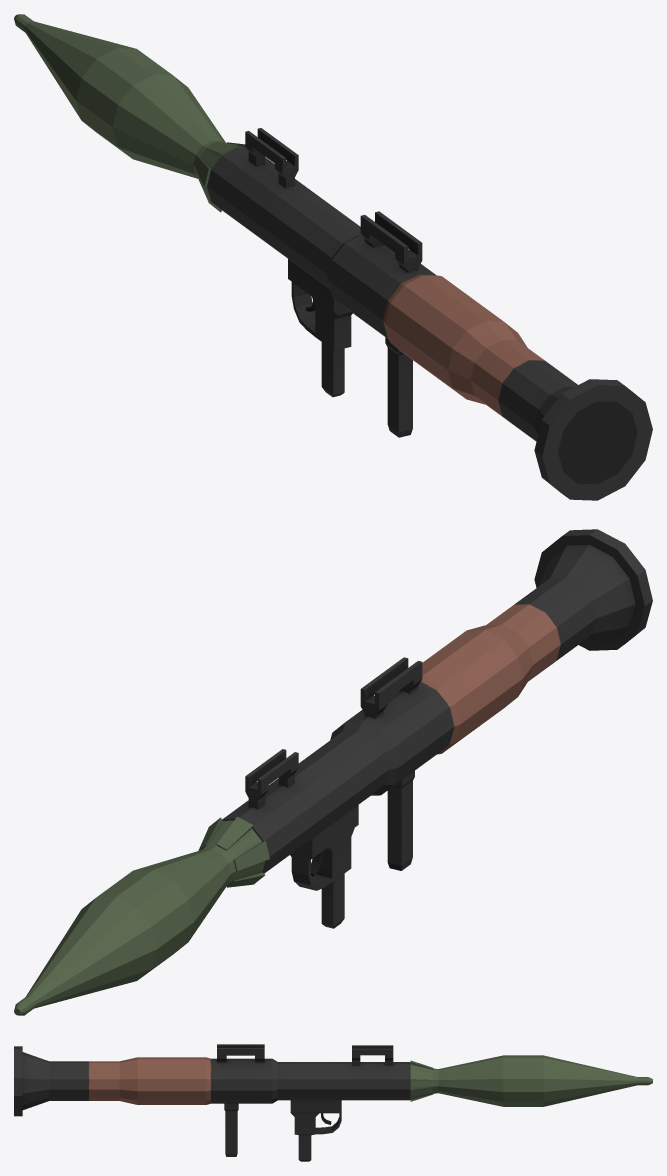
Rendered from rocket_launcher.glb.
3 renders of one model, top to bottom at view 1: azimuth 30°, elevation 25°; view 2: azimuth 150°, elevation 25°; view 3: azimuth 270°, elevation 25°, orthographic. The views are drawn at different scales.
Visible parts, largest first — view 1: launcher, rocket; view 2: launcher, rocket; view 3: launcher, rocket.
Part boxes in pixels (box(x1,y1,x2,y2)): launcher: box(207, 128, 652, 500); rocket: box(14, 14, 245, 212); launcher: box(222, 529, 652, 928); rocket: box(14, 816, 269, 1015); launcher: box(14, 1044, 410, 1161); rocket: box(410, 1055, 652, 1106).
Bounding box in the file's own units: 0.143 × 0.256 × 1.3.
2 materials, 2 textured.
